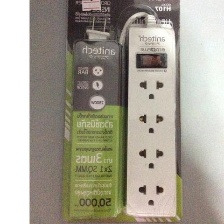book: (58, 0, 183, 224)
three_eye_plug: (121, 17, 177, 219)
